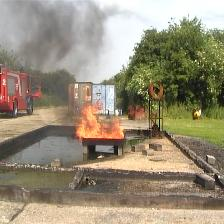fire: (75, 104, 124, 139)
